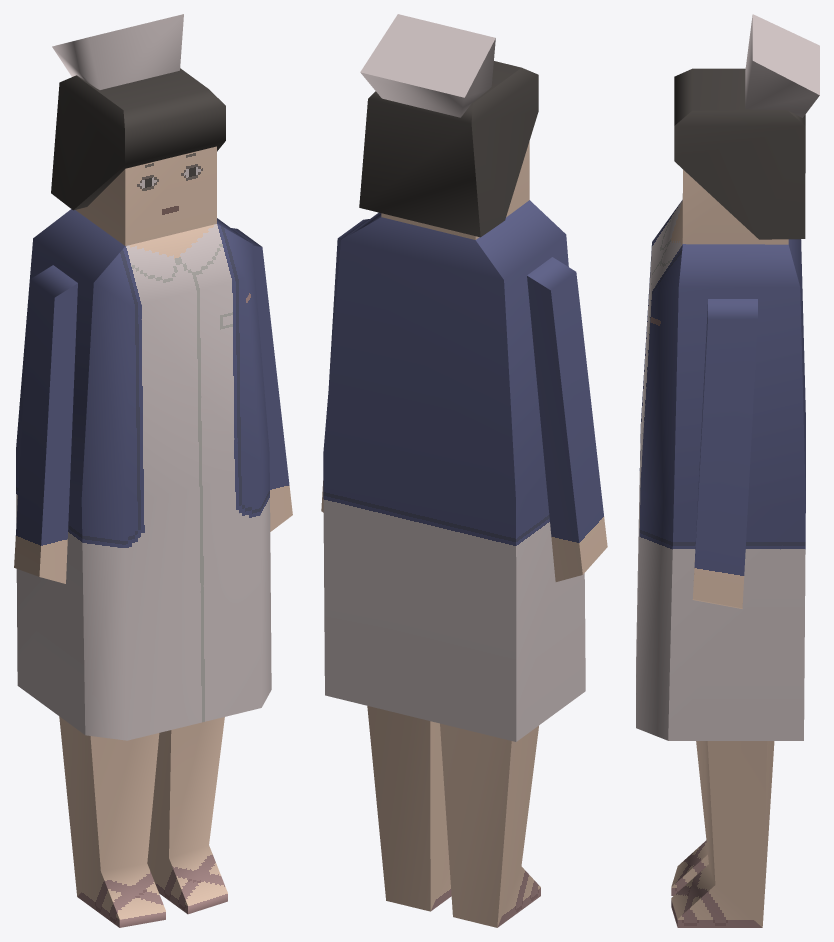
Rendered from 0258_Nurse.glb.
3 views of the same model, side by side, from view 1: azimuth 30°, elevation 25°; view 2: azimuth 150°, elevation 25°; view 3: azimuth 270°, elevation 25° (orthographic). The views are drawn at different scales.
Visible parts, largest first — view 1: part_0; view 2: part_0; view 3: part_0.
Boxes of the visible parts, left/top/right/bottom form: part_0: left=14, top=14, right=292, bottom=927; part_0: left=321, top=14, right=607, bottom=927; part_0: left=636, top=14, right=819, bottom=927.
Bounding box in the file's own units: 0.524 × 1.69 × 0.3268.
Materials: 1 (1 with a texture image).
